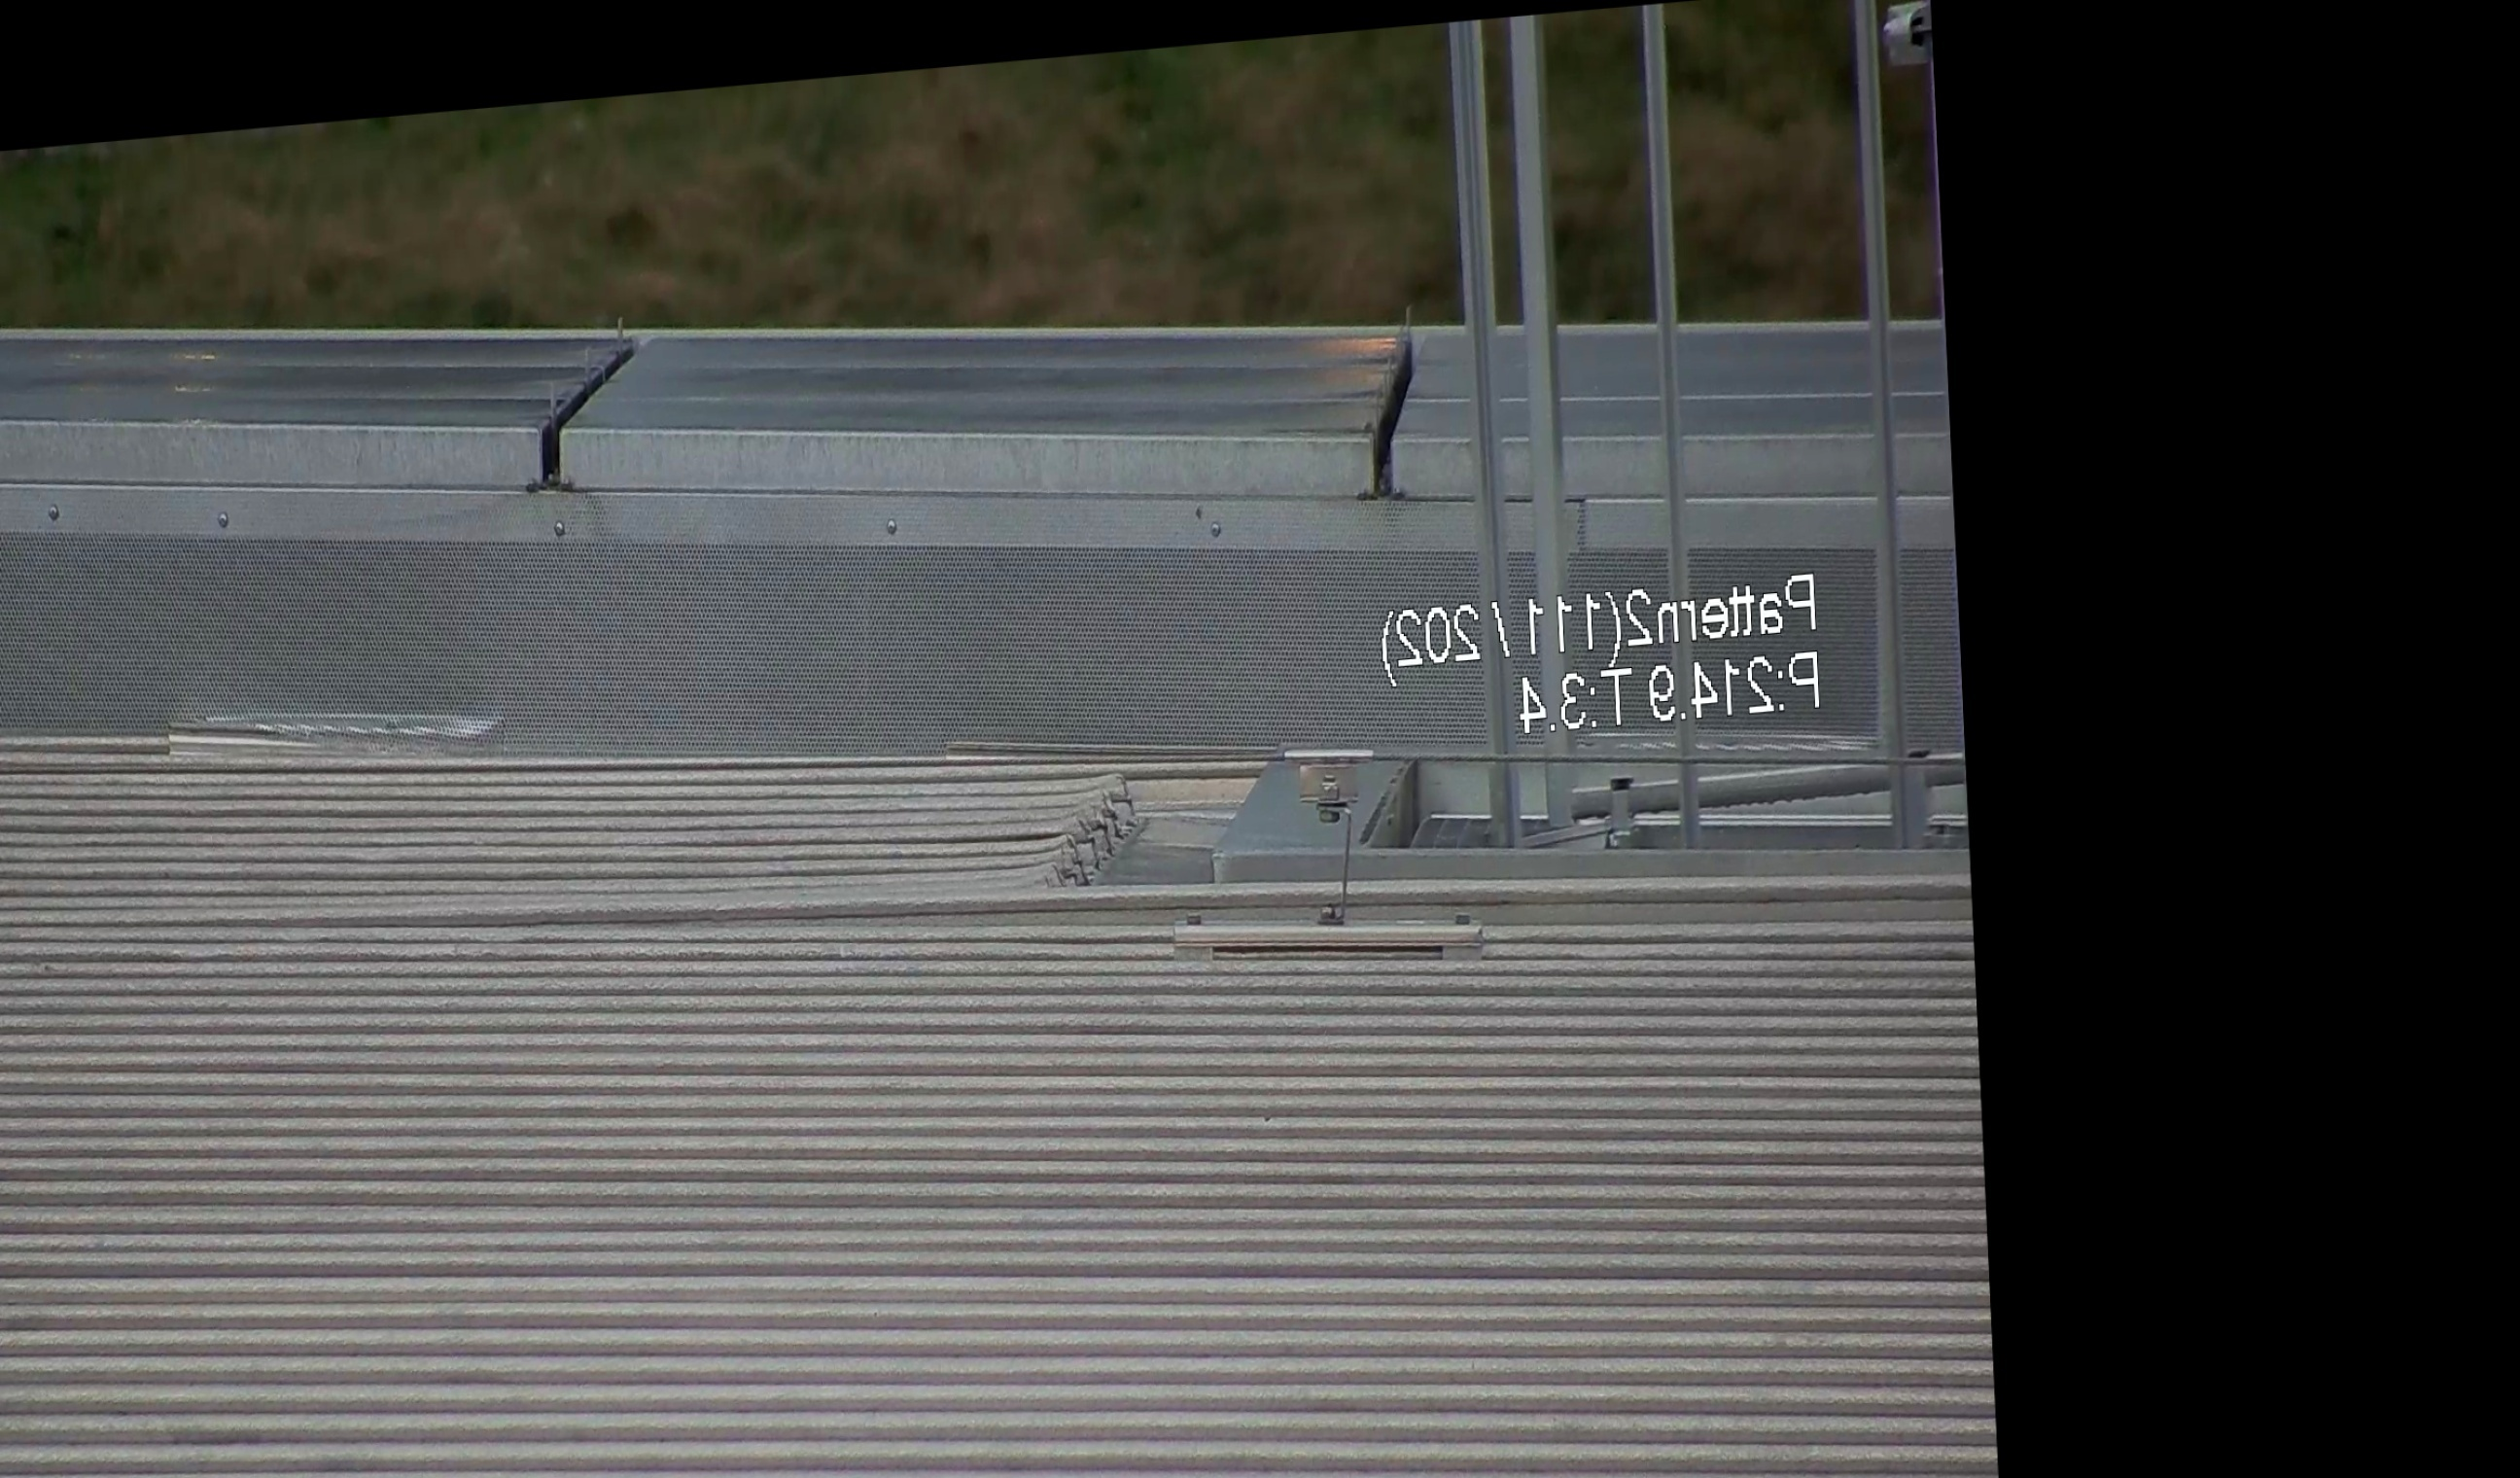Other: (1352, 304, 1447, 500)
